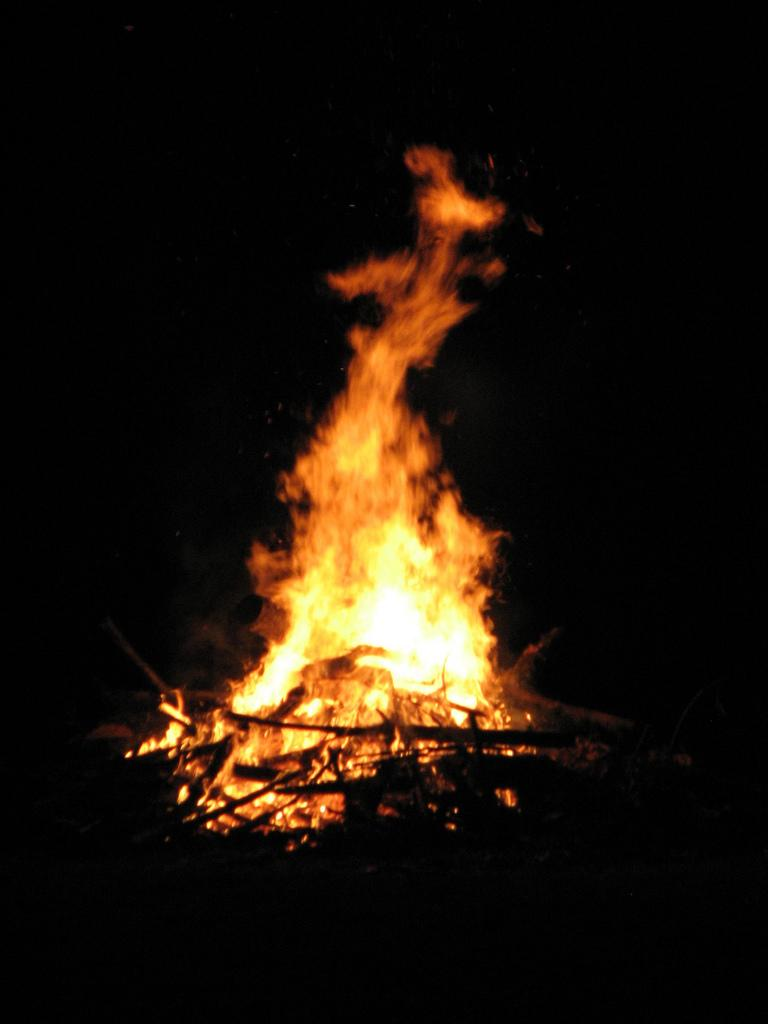fire: (310, 465, 470, 678)
